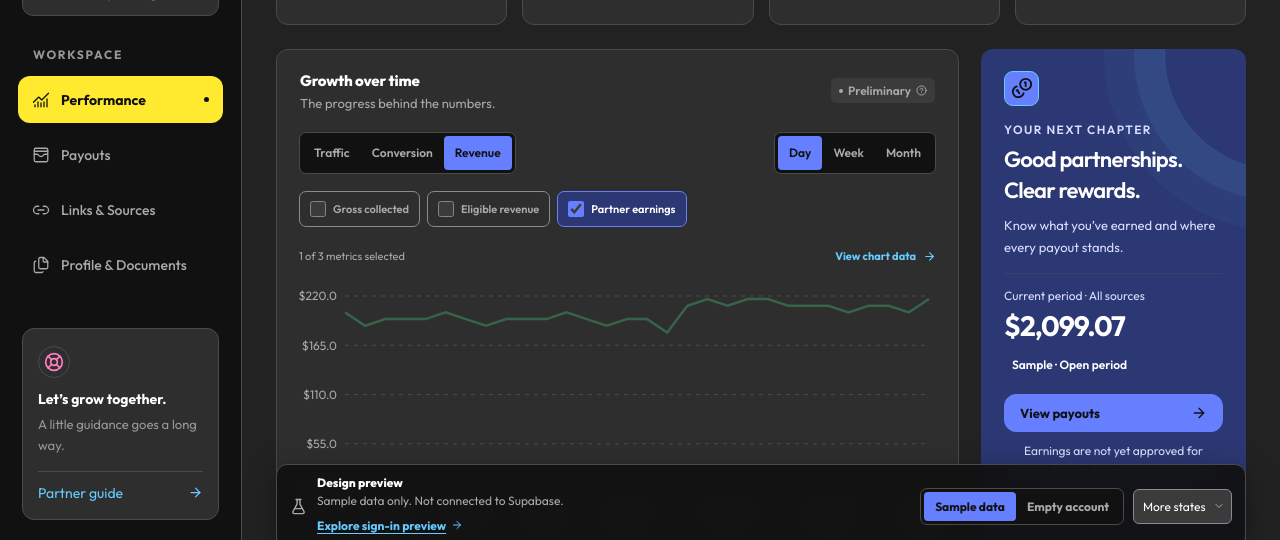
Test: reporting v2 UI › keeps dimension tables independent of chart grain and offers exact date-bucket values
(page scrolled)
Click the button "Week" at (849, 153), box [822,136,875,170]
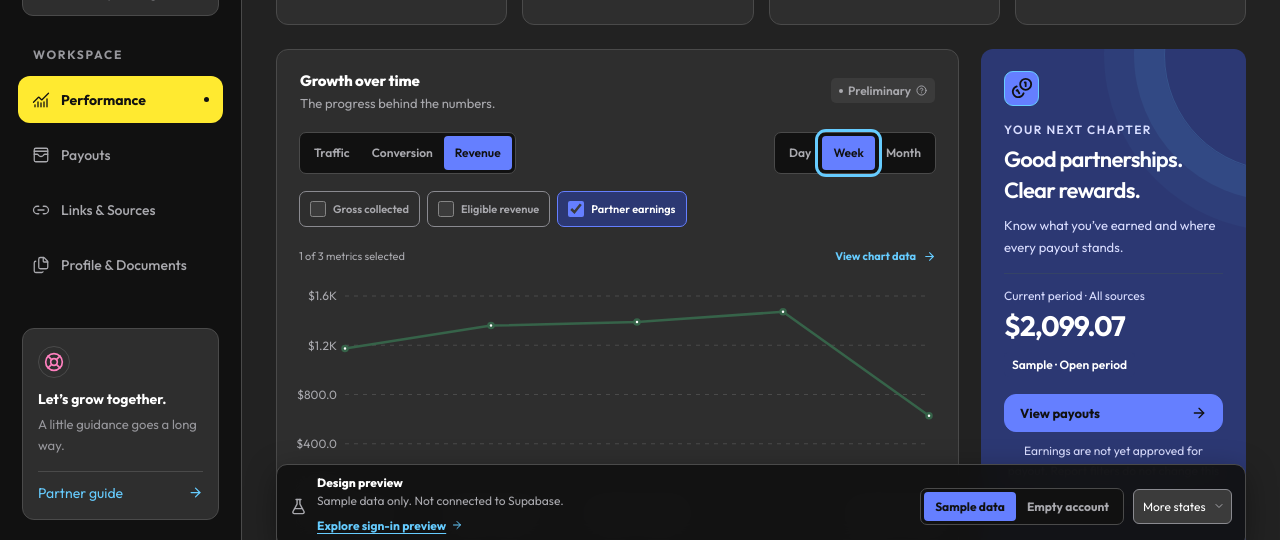
Click the button "View chart data" at (886, 257), box [835,239,936,275]
(page scrolled)
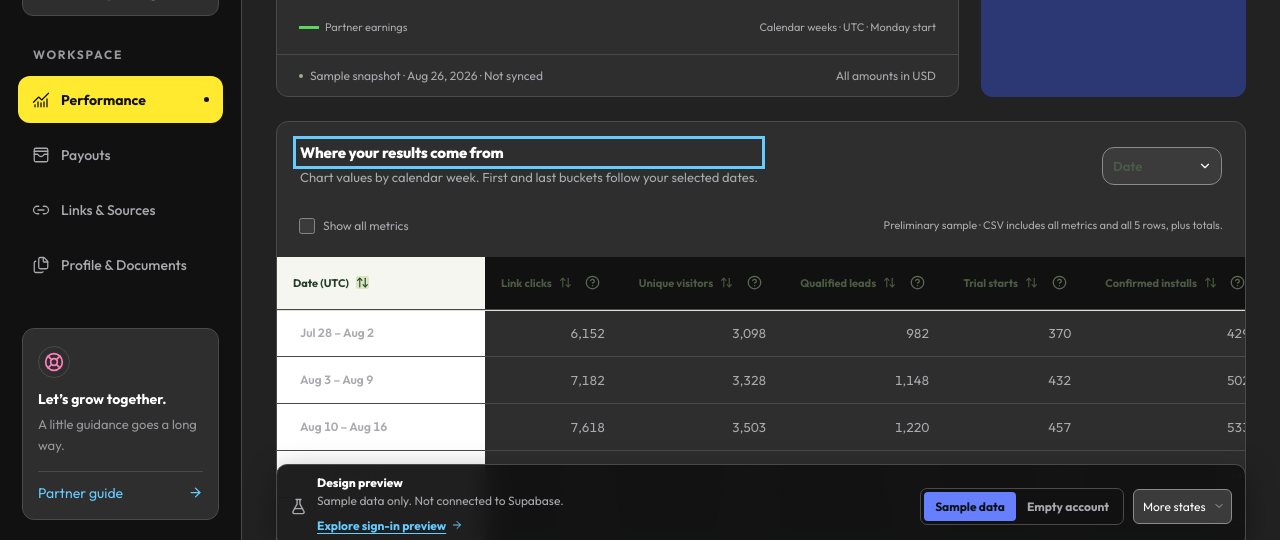
Check: the dropdown named "Report breakdown" in the row of "Where your results come from" shows "Date"
Check: the column heading "Jul 28 – Aug 2" is shown, box [277,310,485,357]
Select "Country" in the dropdown named "Report breakdown" in the row of "Where your results come from" at (1162, 166), box [1113,148,1211,184]
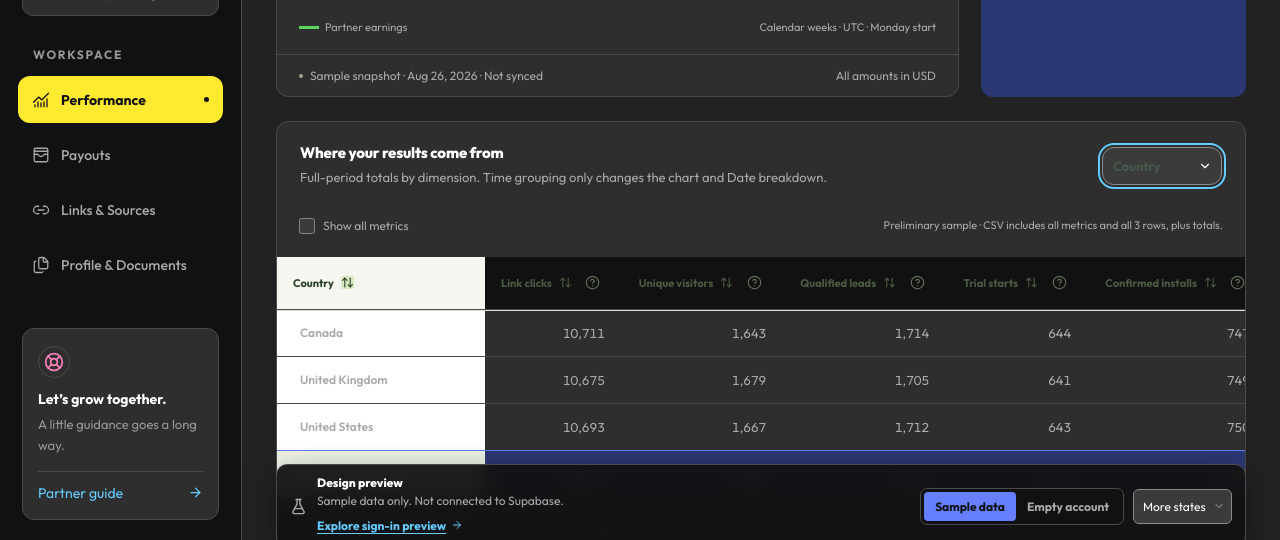
Check: the column heading "Canada" is shown, box [277,310,485,357]
